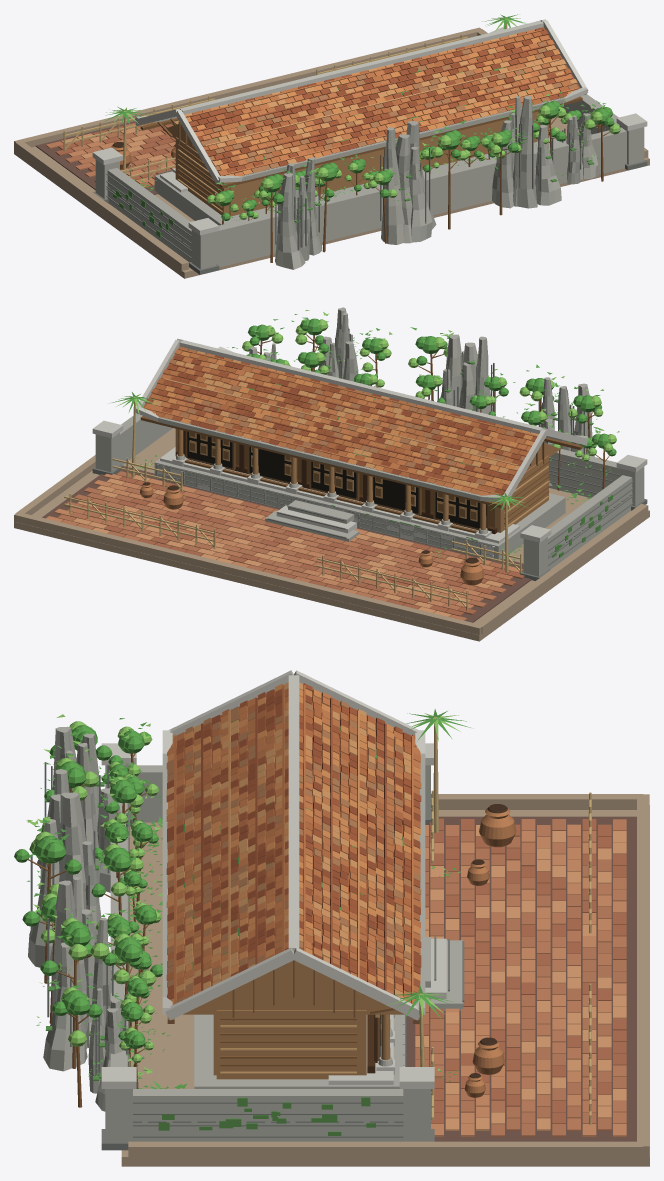
Rendered from Nha-co-Trang-An.glb.
The picture shows the model from 3 angles, top to bottom: view 1: azimuth 30°, elevation 25°; view 2: azimuth 150°, elevation 25°; view 3: azimuth 270°, elevation 25°; orthographic projection. The views are drawn at different scales.
Visible parts, largest first — view 1: Trang_An_Heritage_House; view 2: Trang_An_Heritage_House; view 3: Trang_An_Heritage_House.
Boxes of the visible parts, <box> form: Trang_An_Heritage_House: <box>14,14,649,278</box>; Trang_An_Heritage_House: <box>14,307,649,641</box>; Trang_An_Heritage_House: <box>14,670,649,1166</box>.
Size of the model in its own units: 18.64 by 4.54 by 14.2.
